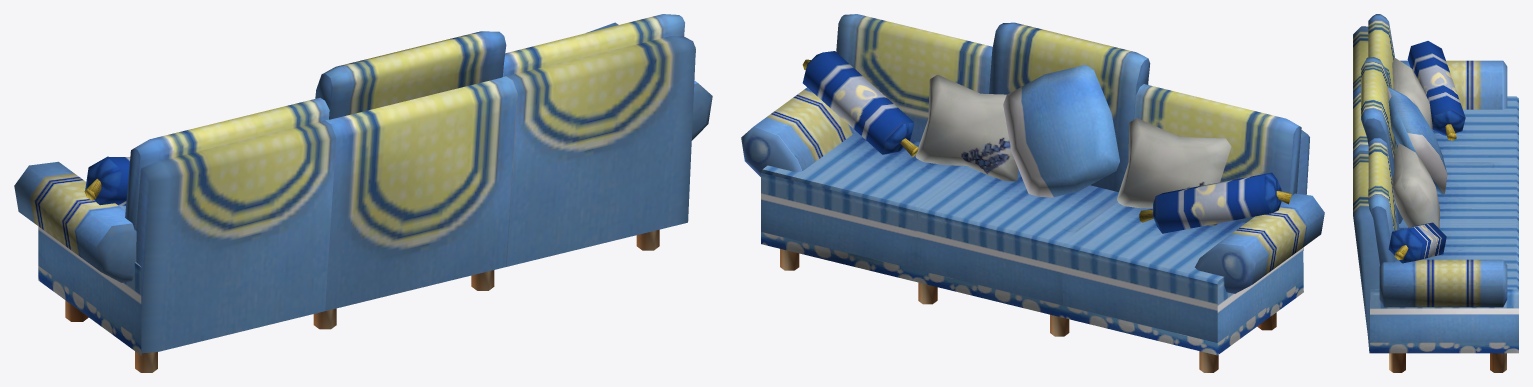
Rendered from furni_0200513.FBX.
3 renders of one model, left to right at view 1: azimuth 30°, elevation 25°; view 2: azimuth 150°, elevation 25°; view 3: azimuth 270°, elevation 25°, orthographic. The views are drawn at different scales.
Visible parts, largest first — view 1: furni_0200513; view 2: furni_0200513; view 3: furni_0200513.
Part boxes in pixels (x1,y1,x2,y2): furni_0200513: [14, 14, 712, 372]; furni_0200513: [741, 14, 1324, 372]; furni_0200513: [1353, 14, 1518, 372].
Bounding box in the file's own units: 239 × 100 × 76.9.
Materials: 1 (1 with a texture image).
